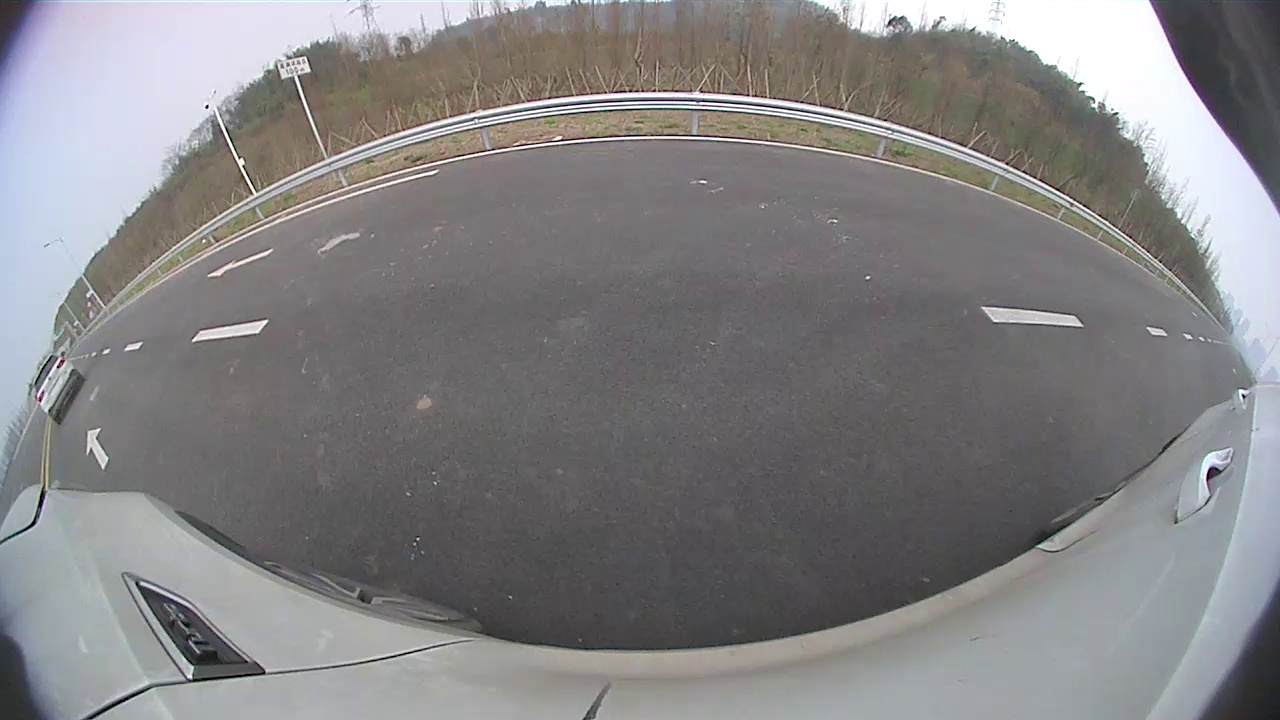car: (31, 351, 86, 427)
